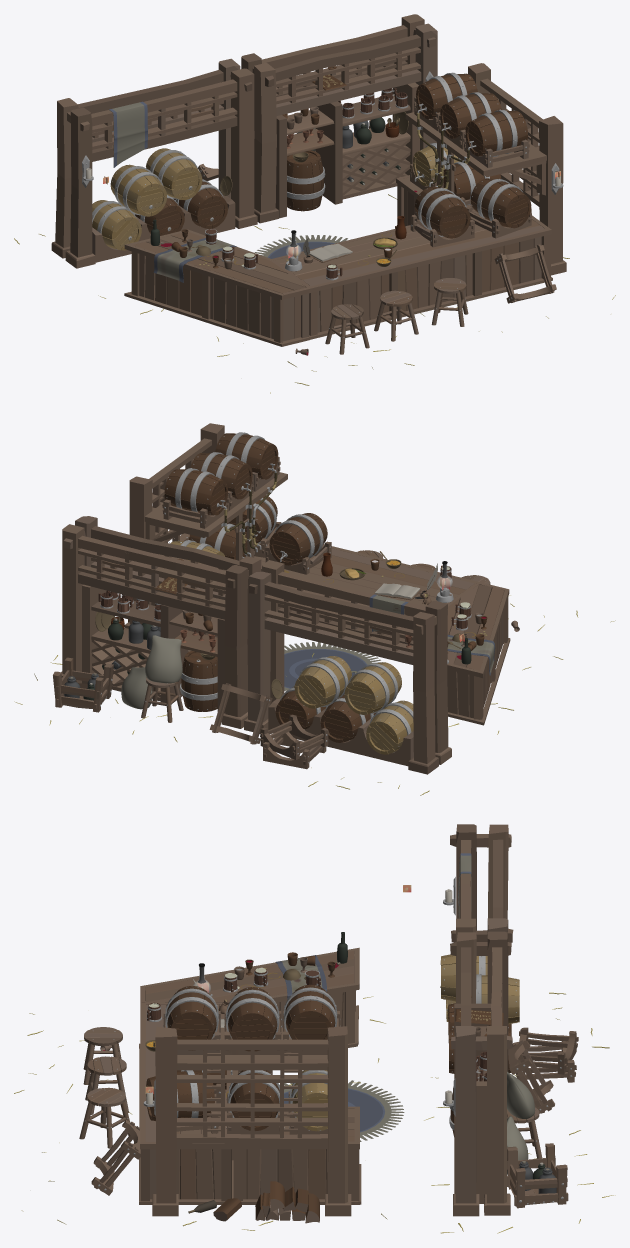
Rendered from bancone_def_più_spazio.fbx.
The picture shows the model from 3 angles, top to bottom: view 1: azimuth 30°, elevation 25°; view 2: azimuth 150°, elevation 25°; view 3: azimuth 270°, elevation 25°; orthographic projection. The views are drawn at different scales.
Parts seen in each view (by area): view 1: middle bar, right bar, Plane.003, Cube.071, Cube.059, Cube.061, Plane.002, Cube.002, Plane.007, Cube.114, Cube.075, Cube.085 (+48 smaller); view 2: Plane.003, Cube.114, Cube.098, Cube.112, Cube.063, Plane.002, Cube.061, Cube.117, Cube.111, Cube.075, Cube.107, Cube.121 (+50 smaller); view 3: Cube.069, left bar, Cube.002, Cube.004, Cube.063, Plane.002, middle bar, Cube.018, Cube.019, Cube.084, Plane.007, Circle.032 (+52 smaller).
Boxes of the visible parts, bbox=[...] form: middle bar: bbox=[317, 236, 541, 332]; right bar: bbox=[139, 254, 300, 341]; Plane.003: bbox=[275, 211, 545, 286]; Cube.071: bbox=[254, 63, 276, 212]; Cube.059: bbox=[231, 68, 254, 218]; Cube.061: bbox=[70, 107, 92, 257]; Plane.002: bbox=[132, 232, 306, 293]; Cube.002: bbox=[539, 116, 563, 263]; Plane.007: bbox=[271, 209, 551, 293]; Cube.114: bbox=[55, 98, 78, 247]; Cube.075: bbox=[275, 34, 420, 81]; Cube.085: bbox=[315, 101, 342, 204]; Plane.003: bbox=[253, 543, 474, 606]; Cube.114: bbox=[413, 612, 435, 763]; Cube.098: bbox=[224, 565, 247, 716]; Cube.112: bbox=[248, 571, 271, 722]; Cube.063: bbox=[62, 524, 84, 674]; Plane.002: bbox=[447, 584, 504, 670]; Cube.061: bbox=[425, 601, 448, 752]; Cube.117: bbox=[264, 581, 413, 629]; Cube.111: bbox=[78, 548, 225, 607]; Cube.075: bbox=[91, 526, 239, 570]; Cube.107: bbox=[78, 535, 225, 583]; Cube.121: bbox=[264, 594, 413, 652]; Cube.069: bbox=[455, 1026, 476, 1203]; left bar: bbox=[243, 1149, 349, 1199]; Cube.002: bbox=[155, 1026, 177, 1203]; Cube.004: bbox=[327, 1026, 347, 1203]; Cube.063: bbox=[487, 1026, 506, 1203]; Plane.002: bbox=[145, 951, 353, 1002]; middle bar: bbox=[150, 1149, 231, 1199]; Cube.018: bbox=[177, 1039, 328, 1049]; Cube.019: bbox=[176, 1134, 327, 1144]; Cube.084: bbox=[454, 1081, 486, 1203]; Plane.007: bbox=[140, 1002, 236, 1149]; Circle.032: bbox=[284, 1085, 391, 1135].
Size of the model in its own units: 845 by 317 by 895.
Materials: 59 (5 with a texture image).
